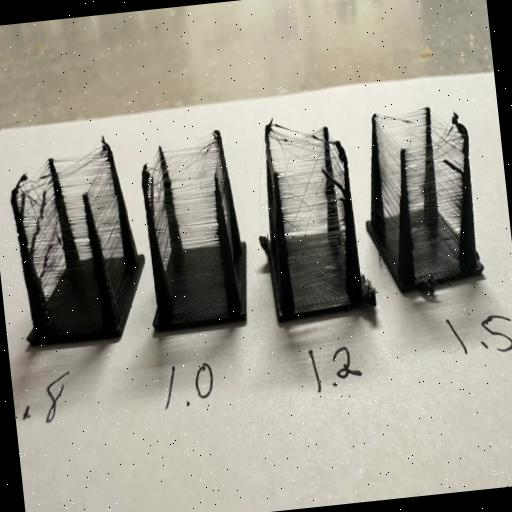stringing: (13, 157, 65, 302), (55, 149, 121, 257), (269, 123, 326, 239), (88, 154, 131, 305), (165, 152, 219, 250), (18, 195, 66, 303), (380, 110, 426, 220), (432, 110, 465, 235), (376, 119, 401, 262), (147, 152, 172, 274), (215, 144, 232, 247), (329, 132, 345, 241), (64, 194, 90, 260)
